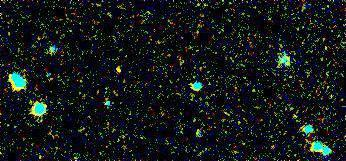star: (105, 58, 135, 88)
